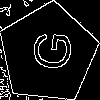G: (23, 28, 73, 73)
